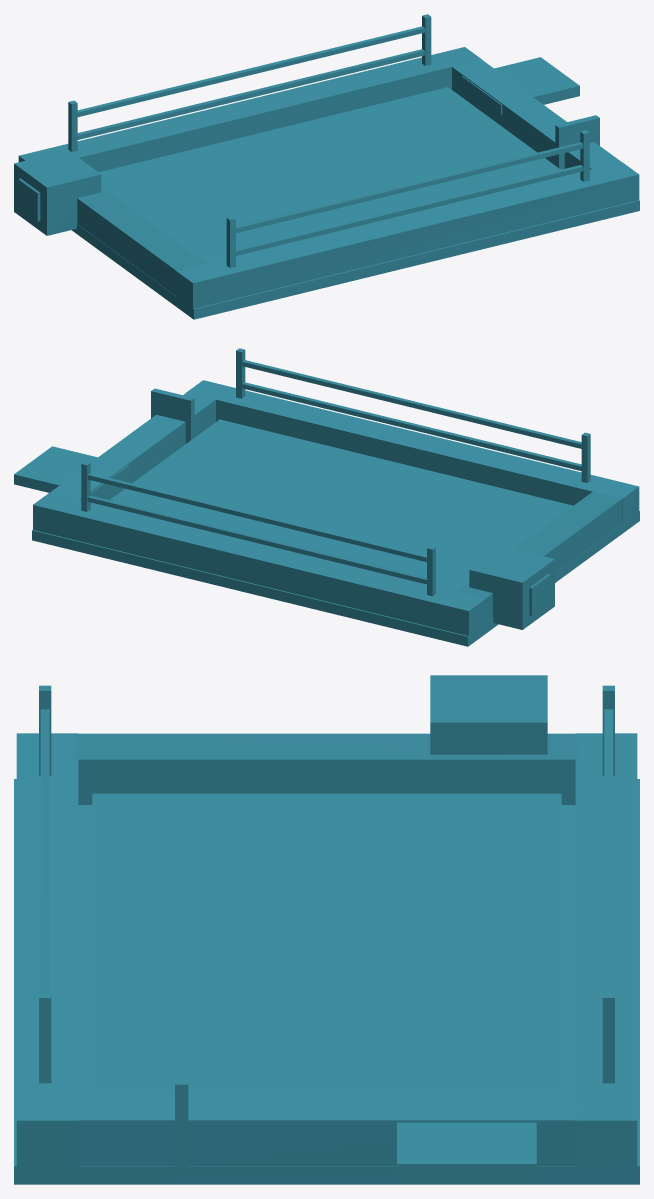
File: shrimp-pond.source.glb
3 renders of one model, top to bottom at view 1: azimuth 30°, elevation 25°; view 2: azimuth 150°, elevation 25°; view 3: azimuth 270°, elevation 25°, orthographic. The views are drawn at different scales.
Parts seen in each view (by area): view 1: shrimp-pond-simple-flat-water-plane-mesh, shrimp-pond-low-long-berm-2.5-mesh, shrimp-pond-low-long-berm--2.5-mesh, shrimp-pond-flat-pond-base-mesh, shrimp-pond-low-short-berm--3.82-mesh, shrimp-pond-low-short-berm-3.82-mesh, shrimp-pond-compact-screened-inlet-box-mesh, shrimp-pond-small-service-platform-mesh, shrimp-pond-long-safety-rail--2.52-1.25-mesh, shrimp-pond-long-safety-rail--2.52-0.85-mesh, shrimp-pond-long-safety-rail-2.52-0.85-mesh, shrimp-pond-long-safety-rail-2.52-1.25-mesh (+6 smaller); view 2: shrimp-pond-simple-flat-water-plane-mesh, shrimp-pond-low-long-berm--2.5-mesh, shrimp-pond-low-long-berm-2.5-mesh, shrimp-pond-flat-pond-base-mesh, shrimp-pond-low-short-berm-3.82-mesh, shrimp-pond-low-short-berm--3.82-mesh, shrimp-pond-compact-screened-inlet-box-mesh, shrimp-pond-long-safety-rail--2.52-0.85-mesh, shrimp-pond-long-safety-rail--2.52-1.25-mesh, shrimp-pond-long-safety-rail-2.52-1.25-mesh, shrimp-pond-long-safety-rail-2.52-0.85-mesh, shrimp-pond-small-service-platform-mesh (+6 smaller); view 3: shrimp-pond-simple-flat-water-plane-mesh, shrimp-pond-low-short-berm-3.82-mesh, shrimp-pond-low-short-berm--3.82-mesh, shrimp-pond-low-long-berm--2.5-mesh, shrimp-pond-low-long-berm-2.5-mesh, shrimp-pond-flat-pond-base-mesh, shrimp-pond-compact-screened-inlet-box-mesh, shrimp-pond-small-service-platform-mesh, shrimp-pond-long-safety-rail--2.52-1.25-mesh, shrimp-pond-long-safety-rail-2.52-1.25-mesh, shrimp-pond-muted-teal-outlet-gate-mesh, shrimp-pond-slim-safety-post-3.25--2.52-mesh (+1 smaller).
Part boxes in pixels (bbox=[...]): shrimp-pond-simple-flat-water-plane-mesh: bbox=[99, 87, 560, 263]; shrimp-pond-low-long-berm-2.5-mesh: bbox=[176, 162, 639, 312]; shrimp-pond-low-long-berm--2.5-mesh: bbox=[18, 47, 481, 172]; shrimp-pond-flat-pond-base-mesh: bbox=[71, 200, 639, 319]; shrimp-pond-low-short-berm--3.82-mesh: bbox=[77, 187, 206, 295]; shrimp-pond-low-short-berm-3.82-mesh: bbox=[452, 59, 622, 169]; shrimp-pond-compact-screened-inlet-box-mesh: bbox=[14, 150, 101, 235]; shrimp-pond-small-service-platform-mesh: bbox=[462, 57, 579, 115]; shrimp-pond-long-safety-rail--2.52-1.25-mesh: bbox=[77, 26, 424, 117]; shrimp-pond-long-safety-rail--2.52-0.85-mesh: bbox=[77, 49, 424, 139]; shrimp-pond-long-safety-rail-2.52-0.85-mesh: bbox=[236, 165, 583, 255]; shrimp-pond-long-safety-rail-2.52-1.25-mesh: bbox=[236, 142, 583, 232]; shrimp-pond-simple-flat-water-plane-mesh: bbox=[109, 419, 572, 591]; shrimp-pond-low-long-berm--2.5-mesh: bbox=[33, 492, 485, 637]; shrimp-pond-low-long-berm-2.5-mesh: bbox=[186, 380, 639, 530]; shrimp-pond-flat-pond-base-mesh: bbox=[32, 511, 639, 646]; shrimp-pond-low-short-berm-3.82-mesh: bbox=[50, 391, 216, 499]; shrimp-pond-low-short-berm--3.82-mesh: bbox=[456, 491, 621, 623]; shrimp-pond-compact-screened-inlet-box-mesh: bbox=[469, 546, 554, 629]; shrimp-pond-long-safety-rail--2.52-0.85-mesh: bbox=[87, 495, 426, 584]; shrimp-pond-long-safety-rail--2.52-1.25-mesh: bbox=[87, 473, 426, 561]; shrimp-pond-long-safety-rail-2.52-1.25-mesh: bbox=[242, 360, 581, 448]; shrimp-pond-long-safety-rail-2.52-0.85-mesh: bbox=[242, 382, 581, 470]; shrimp-pond-small-service-platform-mesh: bbox=[14, 446, 129, 497]; shrimp-pond-simple-flat-water-plane-mesh: bbox=[92, 793, 561, 1094]; shrimp-pond-low-short-berm-3.82-mesh: bbox=[72, 1094, 581, 1165]; shrimp-pond-low-short-berm--3.82-mesh: bbox=[72, 733, 581, 804]; shrimp-pond-low-long-berm--2.5-mesh: bbox=[575, 733, 637, 1179]; shrimp-pond-low-long-berm-2.5-mesh: bbox=[16, 733, 78, 1179]; shrimp-pond-flat-pond-base-mesh: bbox=[14, 779, 639, 1184]; shrimp-pond-compact-screened-inlet-box-mesh: bbox=[430, 675, 547, 754]; shrimp-pond-small-service-platform-mesh: bbox=[397, 1122, 536, 1182]; shrimp-pond-long-safety-rail--2.52-1.25-mesh: bbox=[604, 709, 613, 992]; shrimp-pond-long-safety-rail-2.52-1.25-mesh: bbox=[40, 709, 49, 992]; shrimp-pond-muted-teal-outlet-gate-mesh: bbox=[175, 1049, 188, 1167]; shrimp-pond-slim-safety-post-3.25--2.52-mesh: bbox=[602, 993, 614, 1083].
Bounding box in the file's own units: 9.68 × 1.47 × 5.6.
